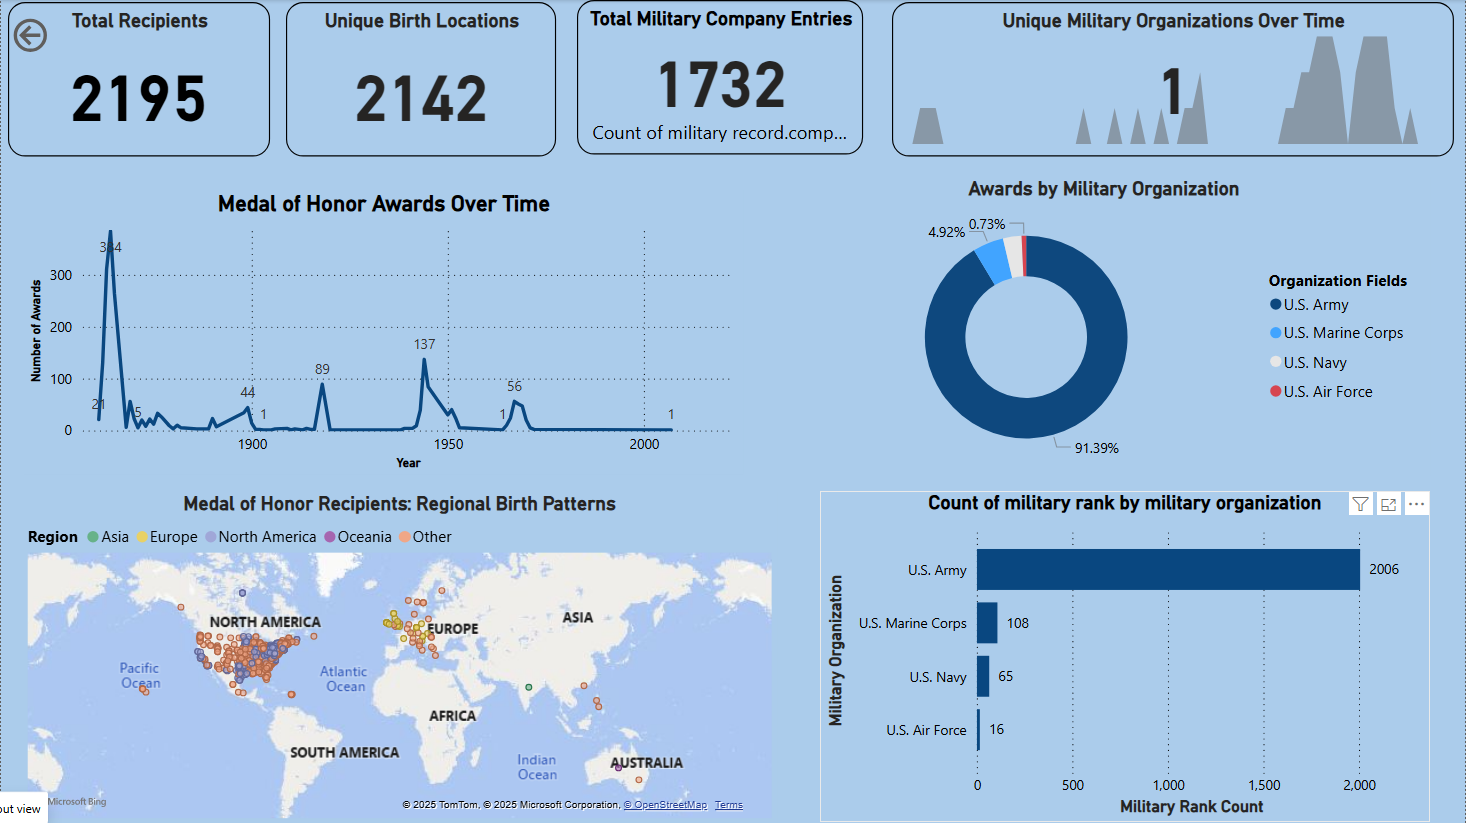

What the dashboard file says about the page in this screenshot:
{"tool":"powerbi","page":{"name":"Dashboard","canvas":[1280,720],"ordinal":0},"visuals":[{"type":"lineChart","title":"Medal of Honor Awards Over Time","fields":{"Category":["Sheet1.awarded.date.year"],"Y":["CountNonNull(Sheet1.name)"]},"box":[20.3,165.9,629.2,249.4],"z":0},{"type":"barChart","title":"Count of military rank by military organization","fields":{"Y":["CountNonNull(Sheet1.military record.rank)"],"Category":["Sheet1.military record.organization"]},"box":[715.3,429.2,533,288.7],"z":1000},{"type":"map","title":"Medal of Honor Recipients: Regional Birth Patterns","fields":{"Category":["Sheet1.birth.location name"],"Series":["Sheet1.Region"]},"box":[18.6,429.6,660.2,290.1],"z":2000},{"type":"donutChart","title":"Awards by Military Organization","fields":{"Category":["Sheet1.military record.organization"],"Y":["CountNonNull(Sheet1.name)"]},"box":[678.6,154.5,569.7,260.8],"z":3000},{"type":"card","title":"Total Recipients","fields":{"Values":["CountNonNull(Sheet1.name)"]},"box":[5.8,1.5,228.5,135.4],"z":4000},{"type":"card","title":"Unique Birth Locations","fields":{"Values":["CountNonNull(Sheet1.birth.location name)"]},"box":[248.9,1.5,235.8,135.4],"z":5000},{"type":"card","title":"Total Military Company Entries","fields":{"Values":["CountNonNull(Sheet1.military record.company)"]},"box":[503.6,0,250.4,135.4],"z":6000},{"type":"kpi","title":"Unique Military Organizations Over Time","fields":{"TrendLine":["Sheet1.awarded.date.year"],"Indicator":["Sheet1.UniqueOrganizationsPerYear"]},"box":[778.7,1.5,490.5,135.4],"z":7000},{"type":"actionButton","box":[5.8,11.6,100.4,39.3],"z":8001}]}

Visuals, with their boxes in screenshot pixels (x1, y1, x2, y2), scaled from the page's 1280x720 canvas onto the 1466x823 screenshot:
"Medal of Honor Awards Over Time" lineChart: rect(23, 190, 744, 475)
"Count of military rank by military organization" barChart: rect(819, 491, 1430, 821)
"Medal of Honor Recipients: Regional Birth Patterns" map: rect(21, 491, 777, 822)
"Awards by Military Organization" donutChart: rect(777, 177, 1430, 475)
"Total Recipients" card: rect(7, 2, 268, 156)
"Unique Birth Locations" card: rect(285, 2, 555, 156)
"Total Military Company Entries" card: rect(577, 0, 864, 155)
"Unique Military Organizations Over Time" kpi: rect(892, 2, 1454, 156)
actionButton: rect(7, 13, 122, 58)
